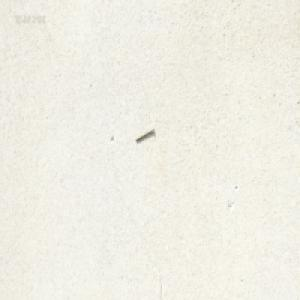Bolt: (134, 126, 154, 143)
